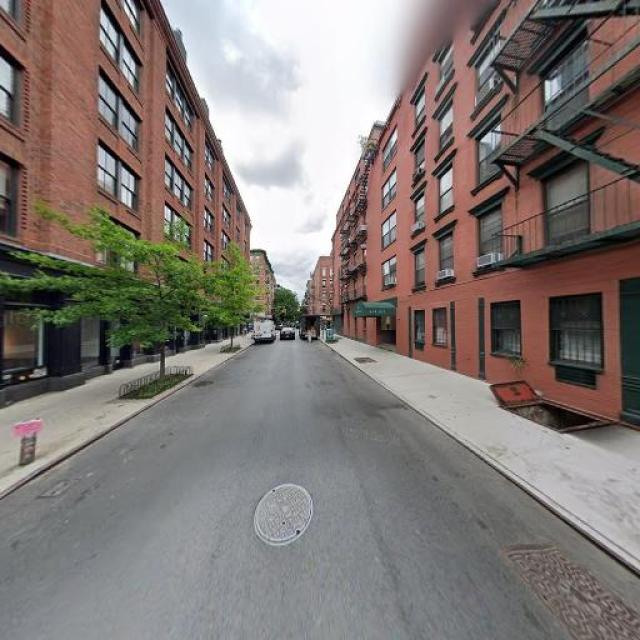Building: (345, 1, 640, 417), (1, 1, 249, 402)
